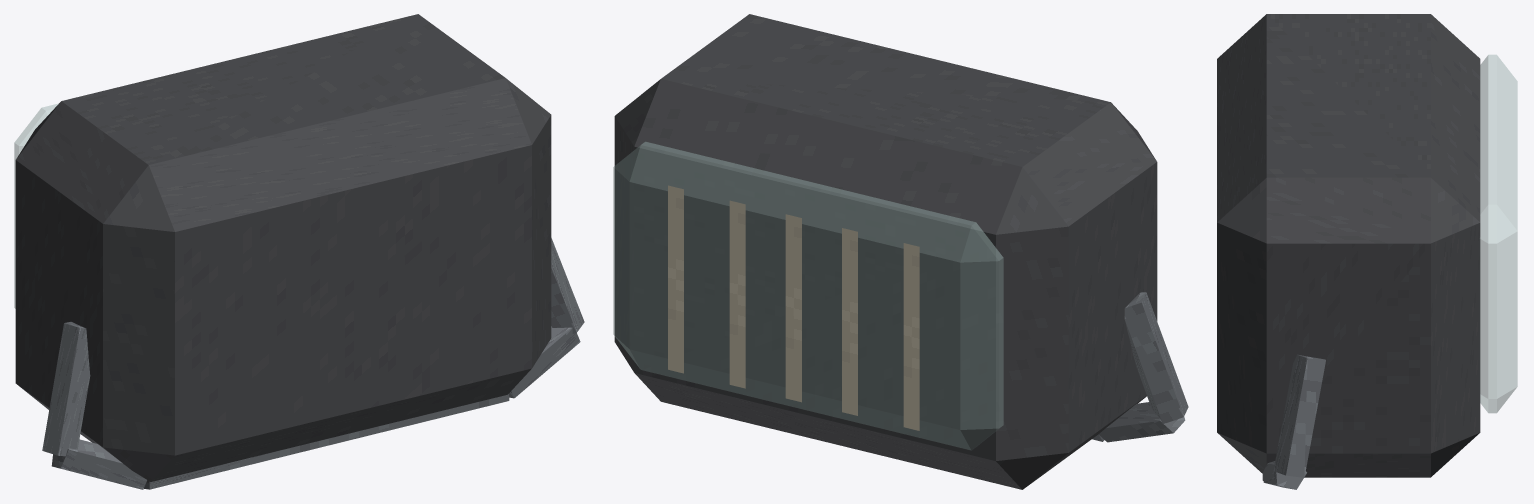
File: floodlight.glb
The picture shows the model from 3 angles, left to right: view 1: azimuth 30°, elevation 25°; view 2: azimuth 150°, elevation 25°; view 3: azimuth 270°, elevation 25°; orthographic projection. The views are drawn at different scales.
Visible parts, largest first — view 1: block_light housing, block_pivot bracket 0, block_pivot bracket 2, block_pivot bracket 1, block_pivot bracket 4, block_pivot bracket 3, block_fluted glass lens; view 2: block_light housing, block_fluted glass lens, block_reflector line (×5), block_pivot bracket 0, block_pivot bracket 1; view 3: block_light housing, block_fluted glass lens, block_pivot bracket 4, block_pivot bracket 3.
Part boxes in pixels (bbox=[...]): block_light housing: bbox=[15, 14, 551, 482]; block_pivot bracket 0: bbox=[42, 322, 90, 456]; block_pivot bracket 2: bbox=[144, 394, 509, 489]; block_pivot bracket 1: bbox=[51, 439, 146, 489]; block_pivot bracket 4: bbox=[551, 238, 584, 333]; block_pivot bracket 3: bbox=[509, 326, 580, 398]; block_fluted glass lens: bbox=[14, 103, 58, 308]; block_light housing: bbox=[614, 14, 1157, 489]; block_fluted glass lens: bbox=[613, 142, 1003, 450]; block_reflector line (×5): bbox=[668, 185, 919, 430]; block_pivot bracket 0: bbox=[1124, 292, 1188, 423]; block_pivot bracket 1: bbox=[1098, 402, 1185, 442]; block_light housing: bbox=[1217, 14, 1480, 477]; block_fluted glass lens: bbox=[1479, 54, 1517, 413]; block_pivot bracket 4: bbox=[1273, 354, 1325, 477]; block_pivot bracket 3: bbox=[1263, 461, 1306, 489].
Size of the model in its own units: 0.2394 by 0.1407 by 0.1247.
2 materials, 2 textured.
